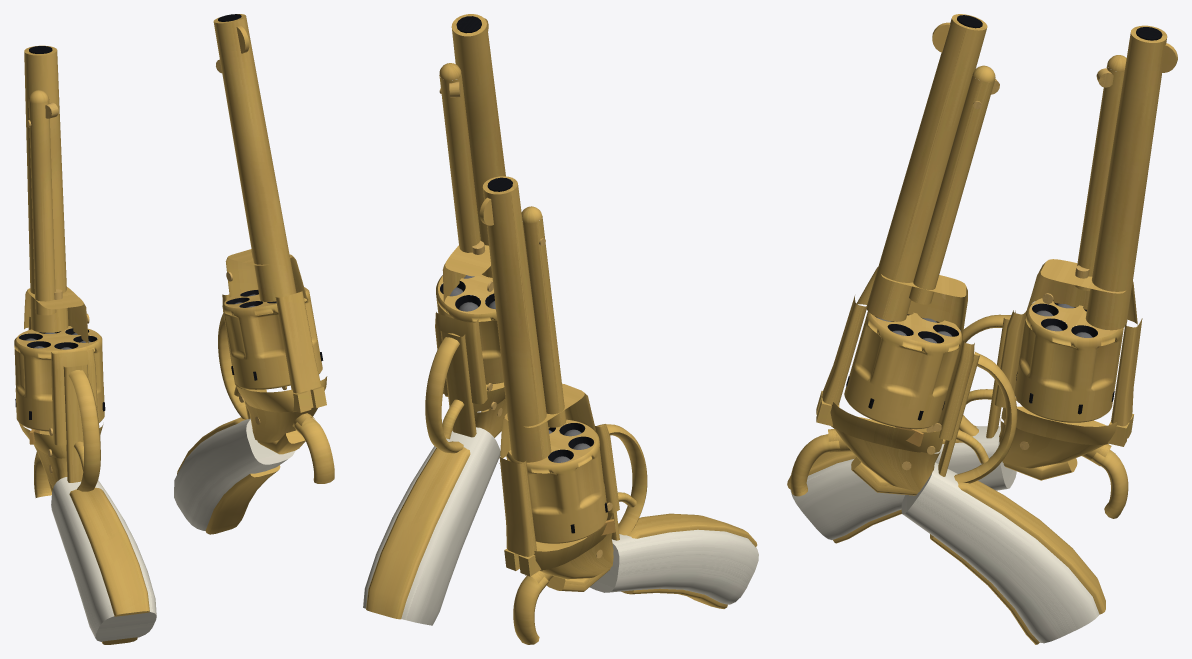
Rendered from gun.gilded-sovereign.glb.
The picture shows the model from 3 angles, left to right: view 1: azimuth 30°, elevation 25°; view 2: azimuth 150°, elevation 25°; view 3: azimuth 270°, elevation 25°; orthographic projection. The views are drawn at different scales.
Visible parts, largest first — view 1: revolver (×2); view 2: revolver (×2); view 3: revolver (×2).
Part boxes in pixels (<box>): revolver (×2): <box>14,14,334,644</box>; revolver (×2): <box>363,14,758,644</box>; revolver (×2): <box>787,14,1177,644</box>.
Size of the model in its own units: 0.1616 by 0.3355 by 0.1944.
1 material, 1 textured.
